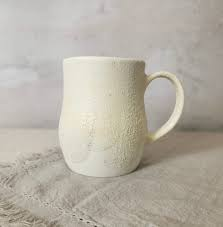mug: (33, 50, 192, 189)
